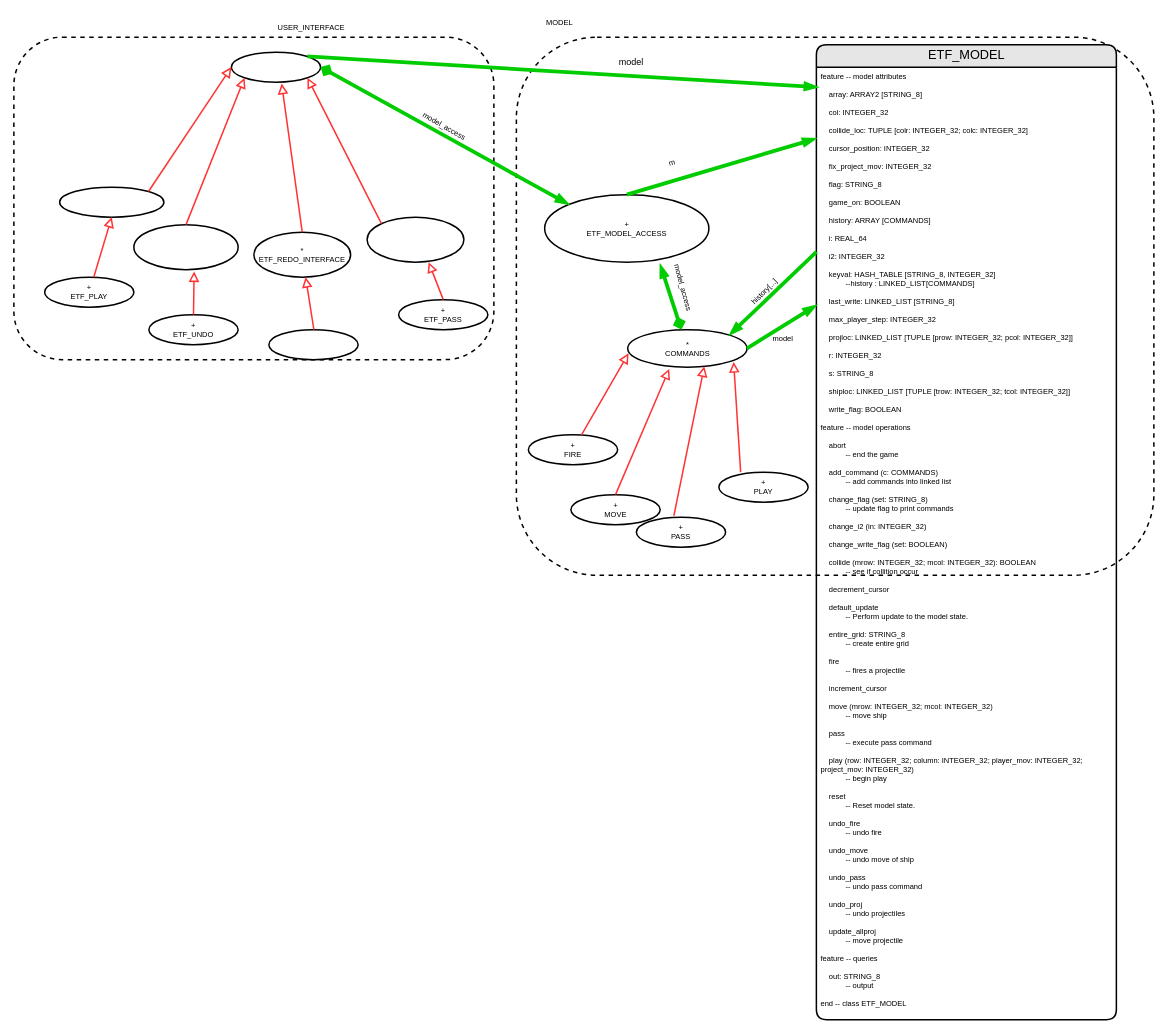
Image size: 1167x1034. Some labels were removed from this diagram. The box of each missing label's shape, as (x1, y1, x2, y2) in pixels:
* ETF_COMMAND: (230, 51, 321, 82)
* ETF_PASS_INTERFACE: (366, 216, 464, 262)
* ETF_PLAY_INTERFACE: (58, 186, 164, 218)
* ETF_UNDO_INTERFACE: (133, 224, 238, 270)
+ ETF_REDO: (268, 328, 358, 360)
